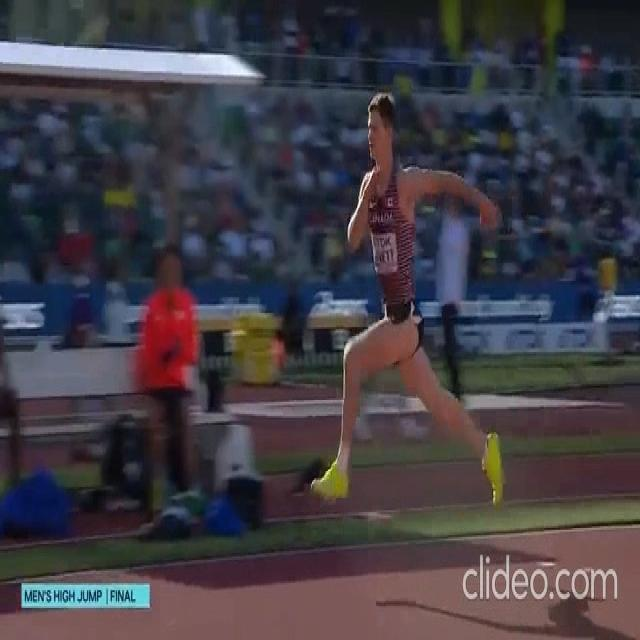run: (307, 95, 503, 505)
